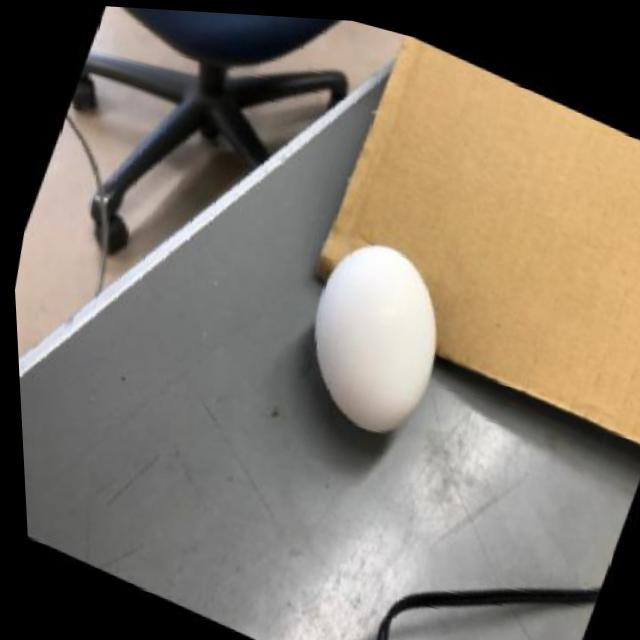egg: (285, 214, 464, 444)
